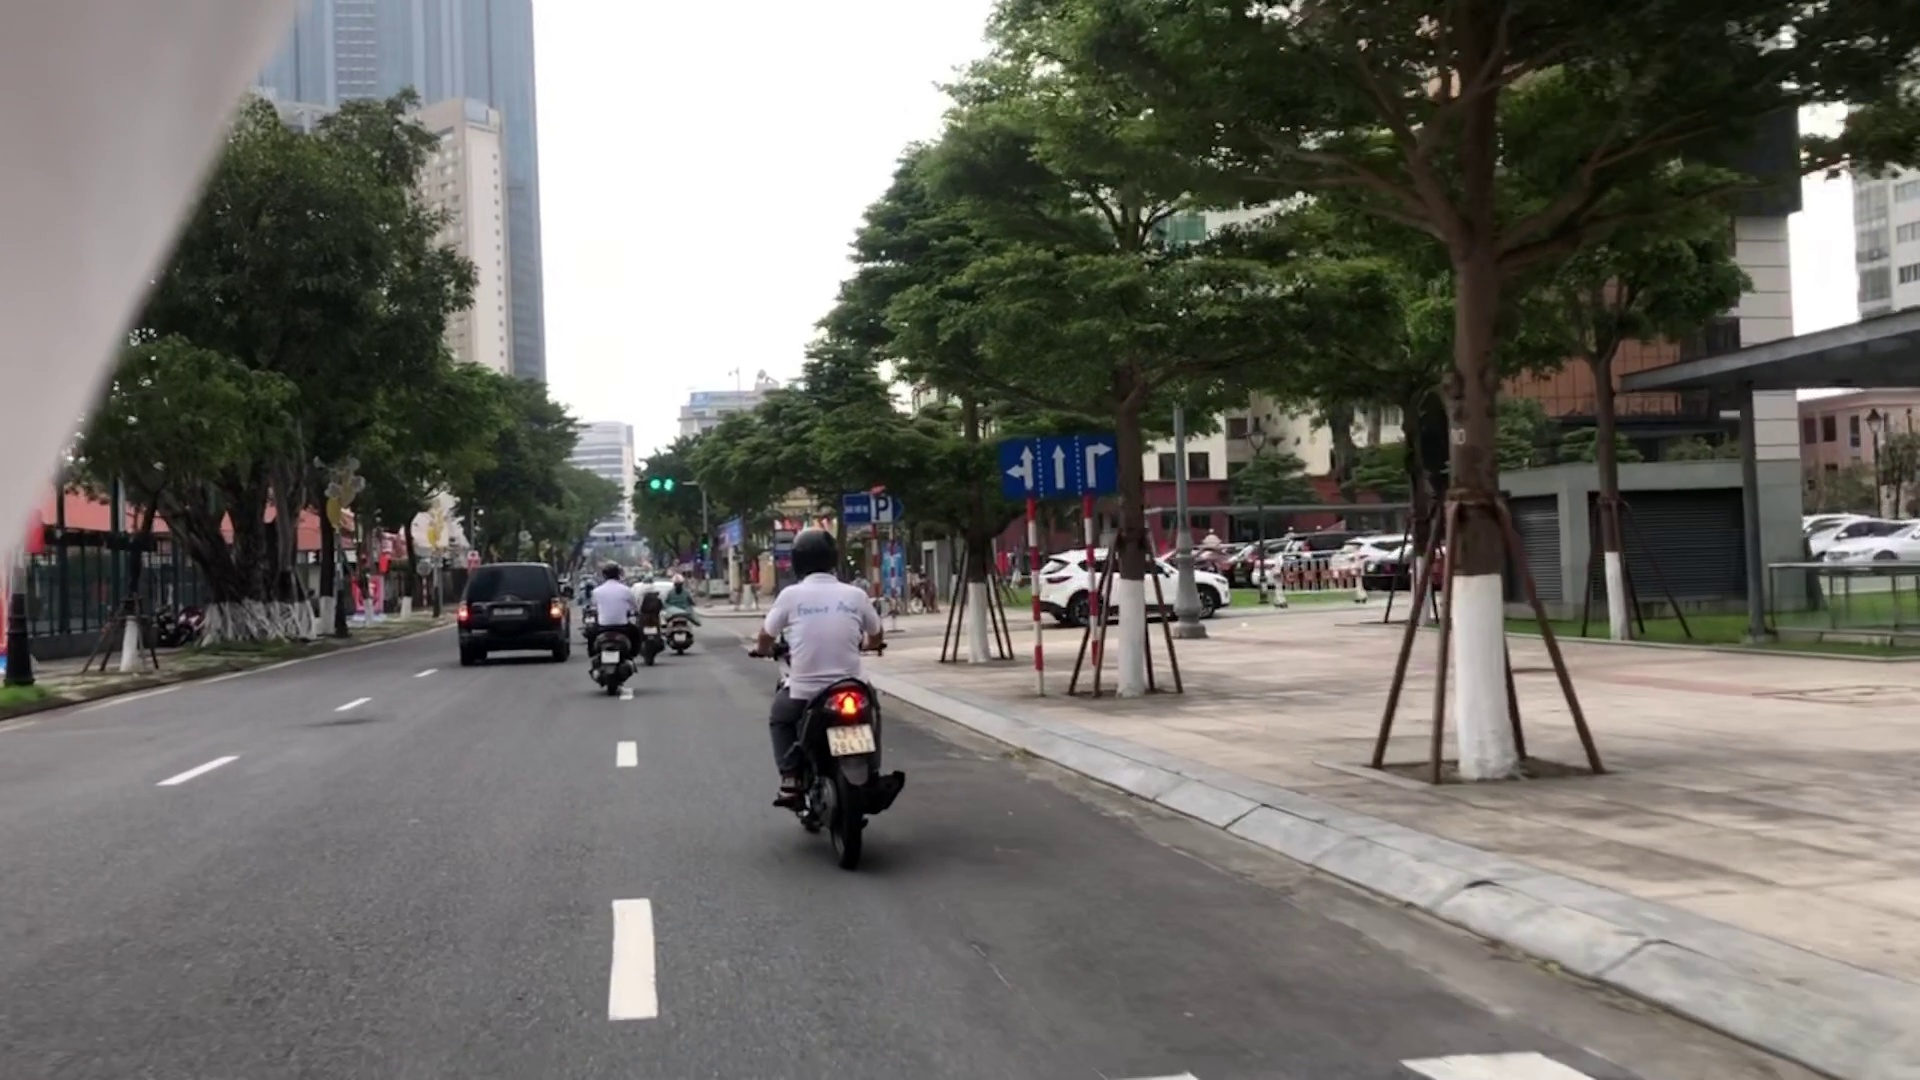Bien khac: (996, 430, 1124, 496)
